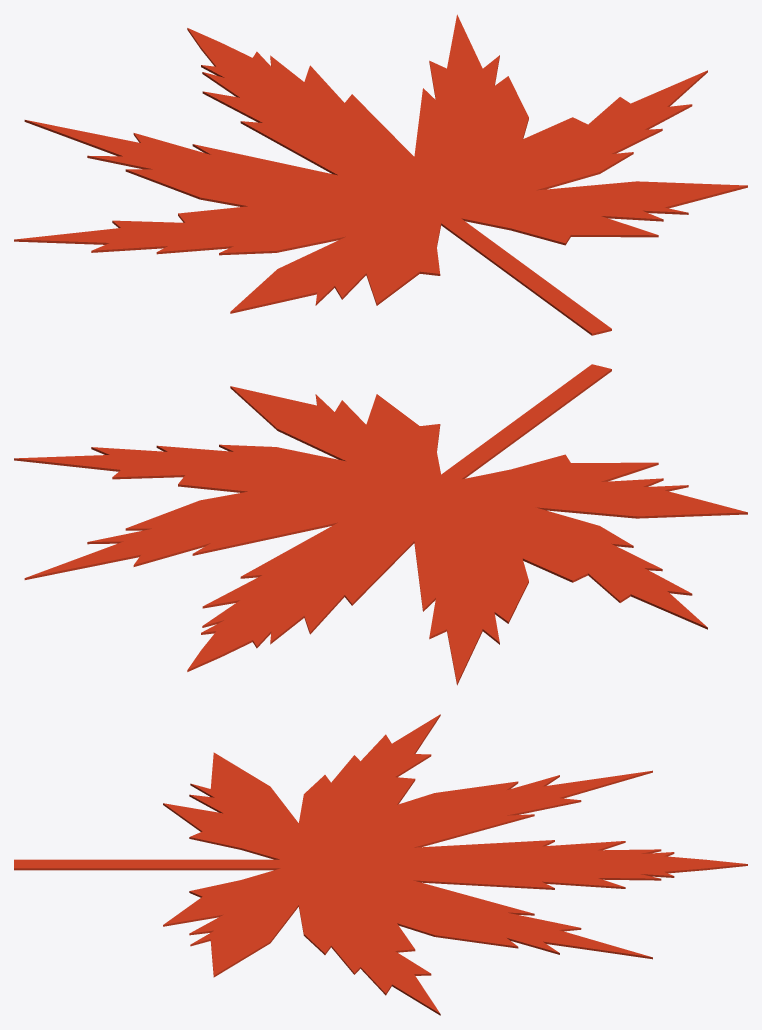
The model's file is MomijiLeave.obj.
3 renders of one model, top to bottom at view 1: azimuth 30°, elevation 25°; view 2: azimuth 150°, elevation 25°; view 3: azimuth 270°, elevation 25°, orthographic. The views are drawn at different scales.
Parts seen in each view (by area): view 1: 平面; view 2: 平面; view 3: 平面.
Part boxes in pixels (x1,y1,x2,y2): 平面: (14,14,747,335); 平面: (14,364,747,685); 平面: (14,714,747,1015).
Bounding box in the file's own units: 1.86 × 0.00543 × 1.92.
1 material, 1 textured.
